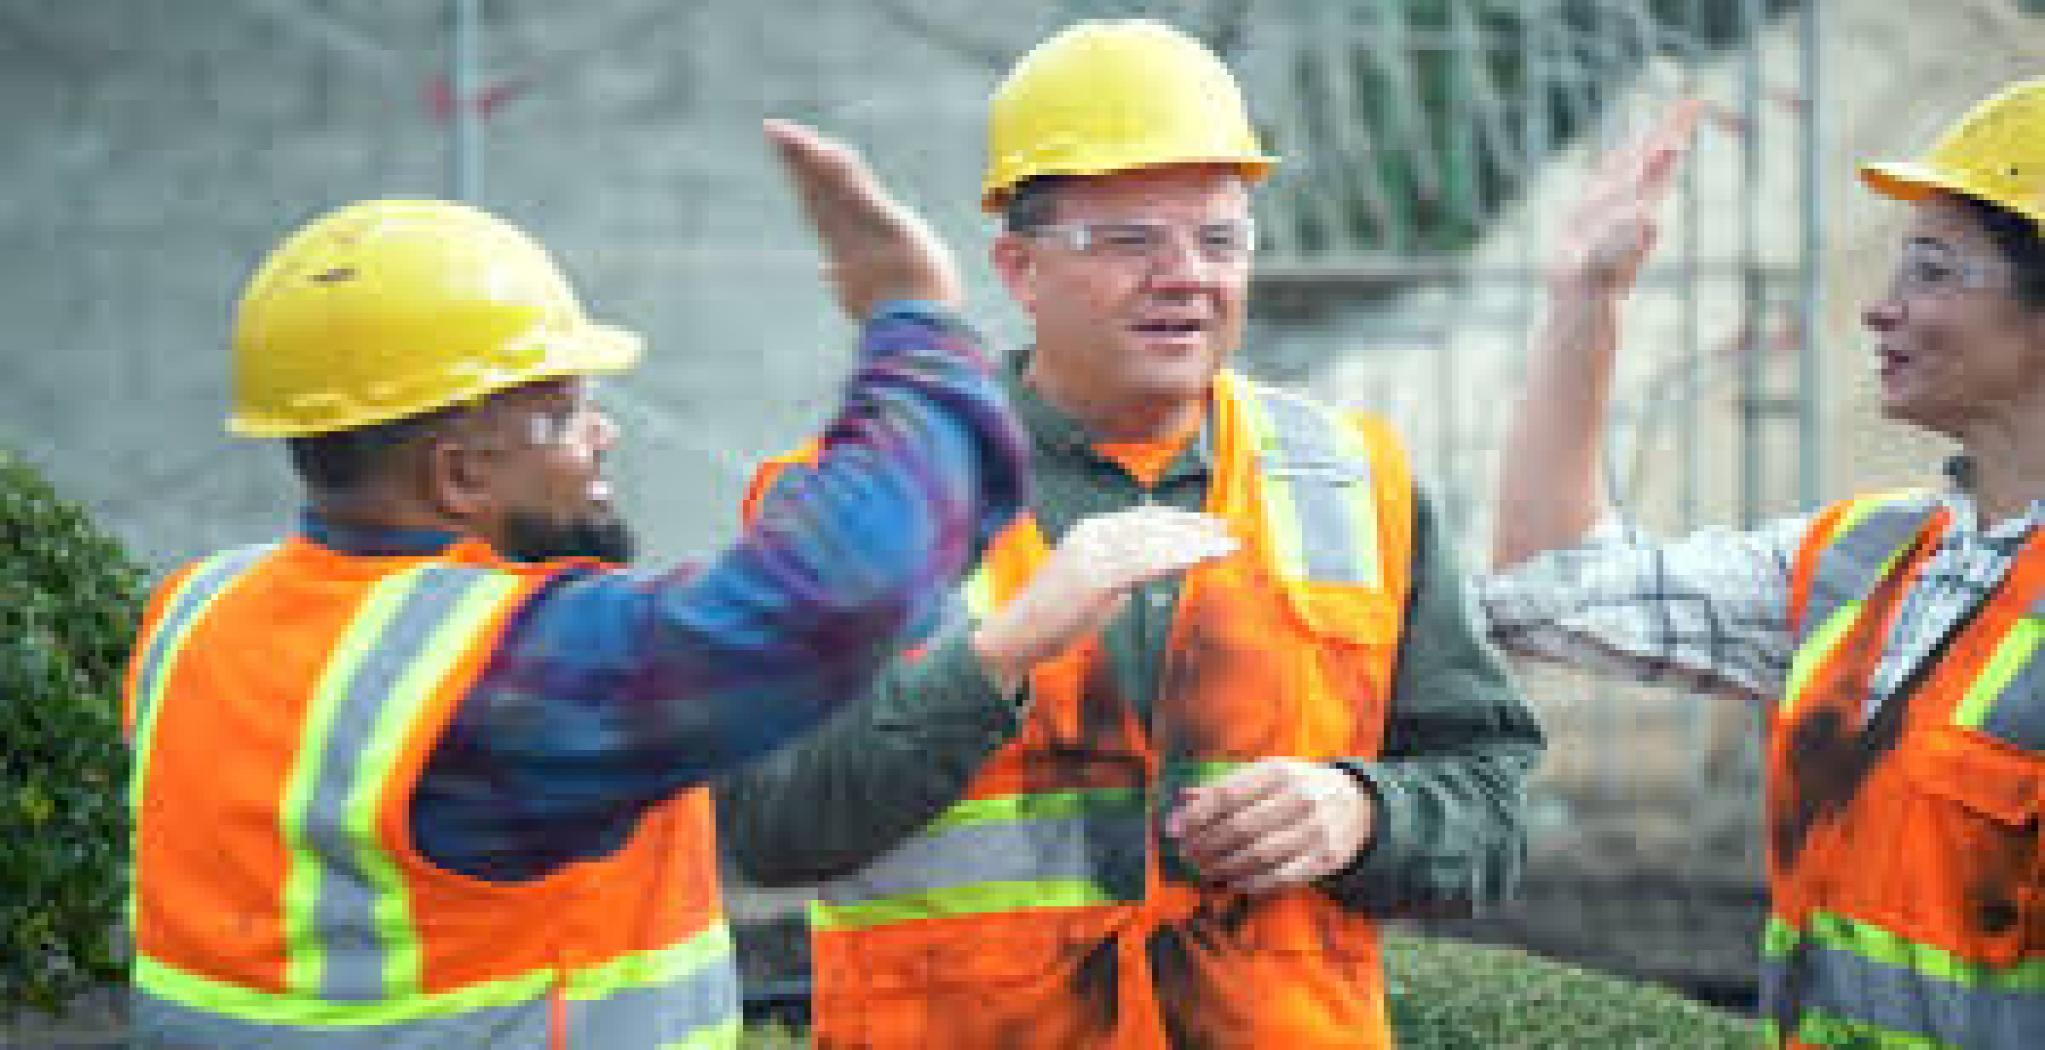gloved: (765, 102, 980, 363), (1224, 733, 1382, 900)
not-gloved: (1555, 102, 1699, 391), (1069, 496, 1260, 615)
